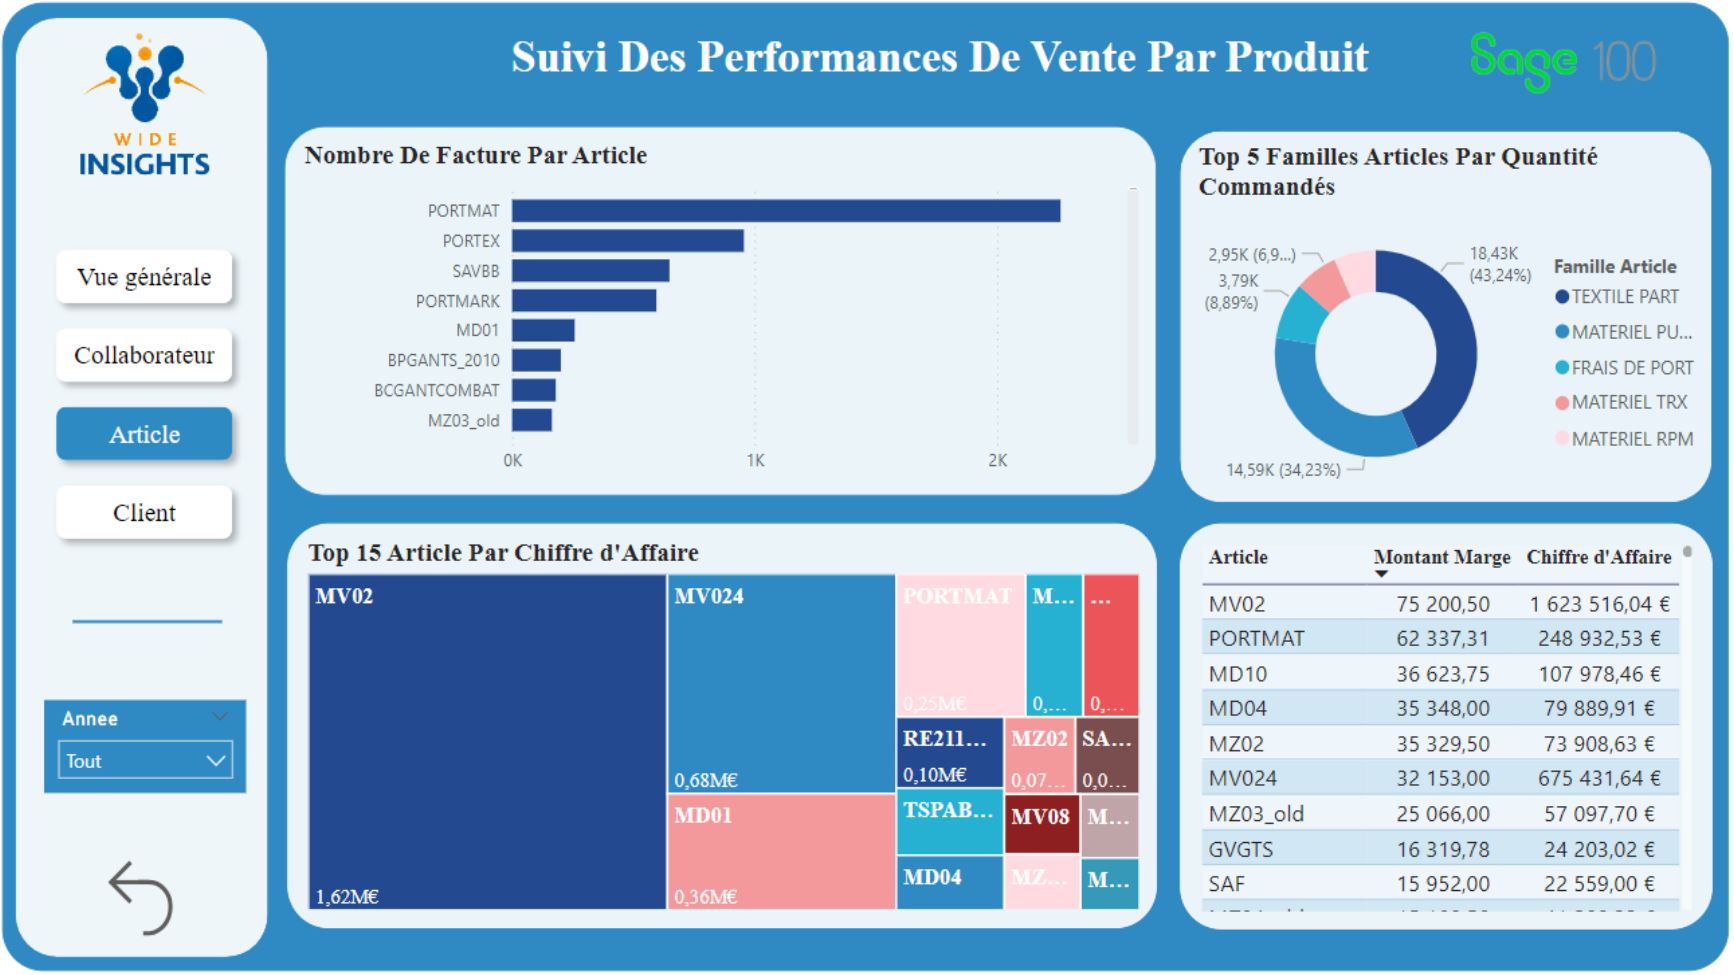

This screenshot's page, from the dashboard's own definition file:
{"tool":"powerbi","page":{"name":"Article","canvas":[1280,720],"ordinal":2},"visuals":[{"type":"textbox","box":[8.8,8.8,1258.8,691.2],"z":0},{"type":"shape","box":[18.8,19.7,183.8,670],"z":1000},{"type":"image","box":[31.8,22.8,161.2,115],"z":2000},{"type":"slicer","fields":{"Values":["Dim_Date.Annee"]},"box":[39.3,506.5,147.5,66.2],"z":3000},{"type":"actionButton","box":[75.5,614,78.8,67.5],"z":4000},{"type":"image","box":[1017.5,0,262.5,103.8],"z":5000},{"type":"shape","box":[867.5,100,387.5,265],"z":6000},{"type":"pageNavigator","box":[39.3,175.6,146.6,224.2],"z":10000},{"type":"shape","box":[59.4,433.7,109,32.6],"z":11000},{"type":"tableEx","fields":{"Values":["Dim_Article.CodeArticle","Sum(Fact_Vente.MontantMarge)","Sum(Fact_Vente.MontantHT)"]},"box":[867,380.3,387.6,289.8],"z":12000},{"type":"textbox","box":[251.2,23.8,882.5,72.5],"z":13000},{"type":"donutChart","title":"Top 5 Familles Articles Par Quantité Commandés ","fields":{"Y":["Sum(Fact_Vente.QteCom)"],"Category":["DIM_FamilleArticle.DescriptionFamilleArticle"]},"box":[876,107,380.7,262],"z":14000},{"type":"treemap","title":"Top 15 Article Par Chiffre d''Affaire","fields":{"Values":["Sum(Fact_Vente.MontantHT)"],"Group":["Dim_Article.CodeArticle"]},"box":[216.2,380,633.8,288.8],"z":15000},{"type":"clusteredBarChart","title":"Nombre De Facture Par Article","fields":{"Category":["Dim_Article.CodeArticle"],"Y":["CountNonNull(Fact_Vente.NoFacture)"]},"box":[214.3,97.1,635.7,264.3],"z":17000}]}

Visuals, with their boxes in screenshot pixels (x1, y1, x2, y2), scaled from the page's 1280x720 canvas onto the 1734x975 screenshot:
textbox: bbox=(12, 12, 1717, 948)
shape: bbox=(25, 27, 274, 934)
image: bbox=(43, 31, 261, 187)
slicer - Dim_Date.Annee: bbox=(53, 686, 253, 776)
actionButton: bbox=(102, 831, 209, 923)
image: bbox=(1378, 0, 1733, 141)
shape: bbox=(1175, 135, 1700, 494)
pageNavigator: bbox=(53, 238, 252, 541)
shape: bbox=(80, 587, 228, 631)
tableEx - Dim_Article.CodeArticle x Sum(Fact_Vente.MontantMarge): bbox=(1175, 515, 1700, 907)
textbox: bbox=(340, 32, 1536, 130)
"Top 5 Familles Articles Par Quantité Commandés " donutChart: bbox=(1187, 145, 1702, 500)
"Top 15 Article Par Chiffre d''Affaire" treemap: bbox=(293, 515, 1151, 906)
"Nombre De Facture Par Article" clusteredBarChart: bbox=(290, 131, 1151, 489)
